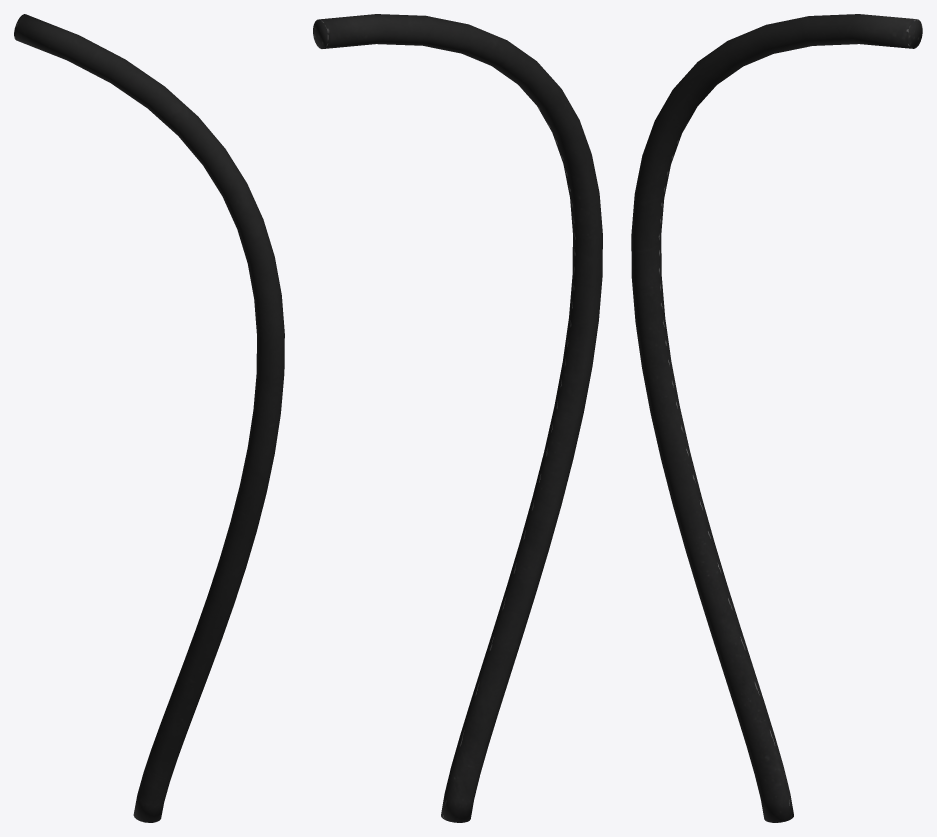
The model's file is Hose.glb.
3 renders of one model, left to right at view 1: azimuth 90°, elevation 25°; view 2: azimuth 150°, elevation 25°; view 3: azimuth 270°, elevation 25°, orthographic. The views are drawn at different scales.
Visible parts, largest first — view 1: Hose; view 2: Hose; view 3: Hose.
Part boxes in pixels (x1,y1,x2,y2): Hose: (14, 14, 284, 822); Hose: (313, 14, 602, 822); Hose: (631, 14, 922, 822).
Size of the model in its own units: 0.1 by 0.5058 by 0.1607.
Materials: 1 (1 with a texture image).
